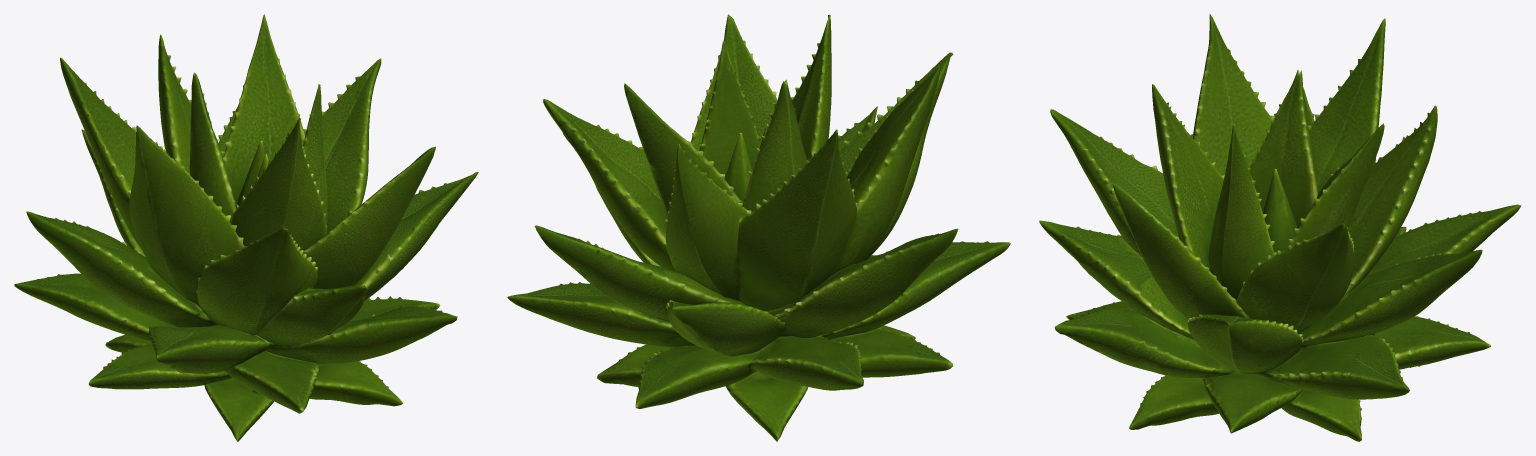
File: succulent_02.glb
The picture shows the model from 3 angles, left to right: view 1: azimuth 30°, elevation 25°; view 2: azimuth 150°, elevation 25°; view 3: azimuth 270°, elevation 25°; orthographic projection. The views are drawn at different scales.
Parts seen in each view (by area): view 1: tripo_node_e06b1365-b755-4326-a6bb-8aafa713ea12; view 2: tripo_node_e06b1365-b755-4326-a6bb-8aafa713ea12; view 3: tripo_node_e06b1365-b755-4326-a6bb-8aafa713ea12.
Part boxes in pixels (x1=…): tripo_node_e06b1365-b755-4326-a6bb-8aafa713ea12: x1=14, y1=14, x2=478, y2=441; tripo_node_e06b1365-b755-4326-a6bb-8aafa713ea12: x1=507, y1=14, x2=1010, y2=441; tripo_node_e06b1365-b755-4326-a6bb-8aafa713ea12: x1=1039, y1=14, x2=1521, y2=441.
Size of the model in its own units: 0.9781 by 0.7059 by 0.9827.
Materials: 1 (1 with a texture image).
